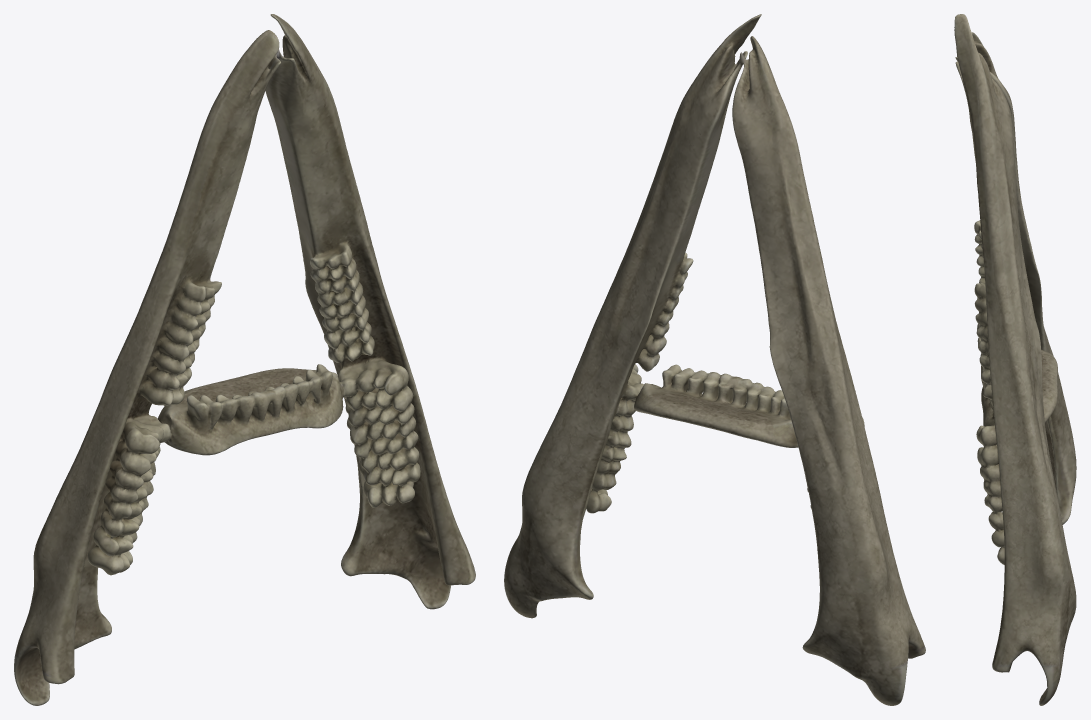
The picture shows the model from 3 angles, left to right: view 1: azimuth 30°, elevation 25°; view 2: azimuth 150°, elevation 25°; view 3: azimuth 270°, elevation 25°; orthographic projection. The views are drawn at different scales.
Visible parts, largest first — view 1: mesh_node; view 2: mesh_node; view 3: mesh_node.
Boxes of the visible parts, <box> form: mesh_node: <box>14,14,475,705</box>; mesh_node: <box>504,14,925,705</box>; mesh_node: <box>954,14,1076,705</box>.
Bounding box in the file's own units: 1.29 × 1.9 × 0.3502.
Materials: 1 (1 with a texture image).
